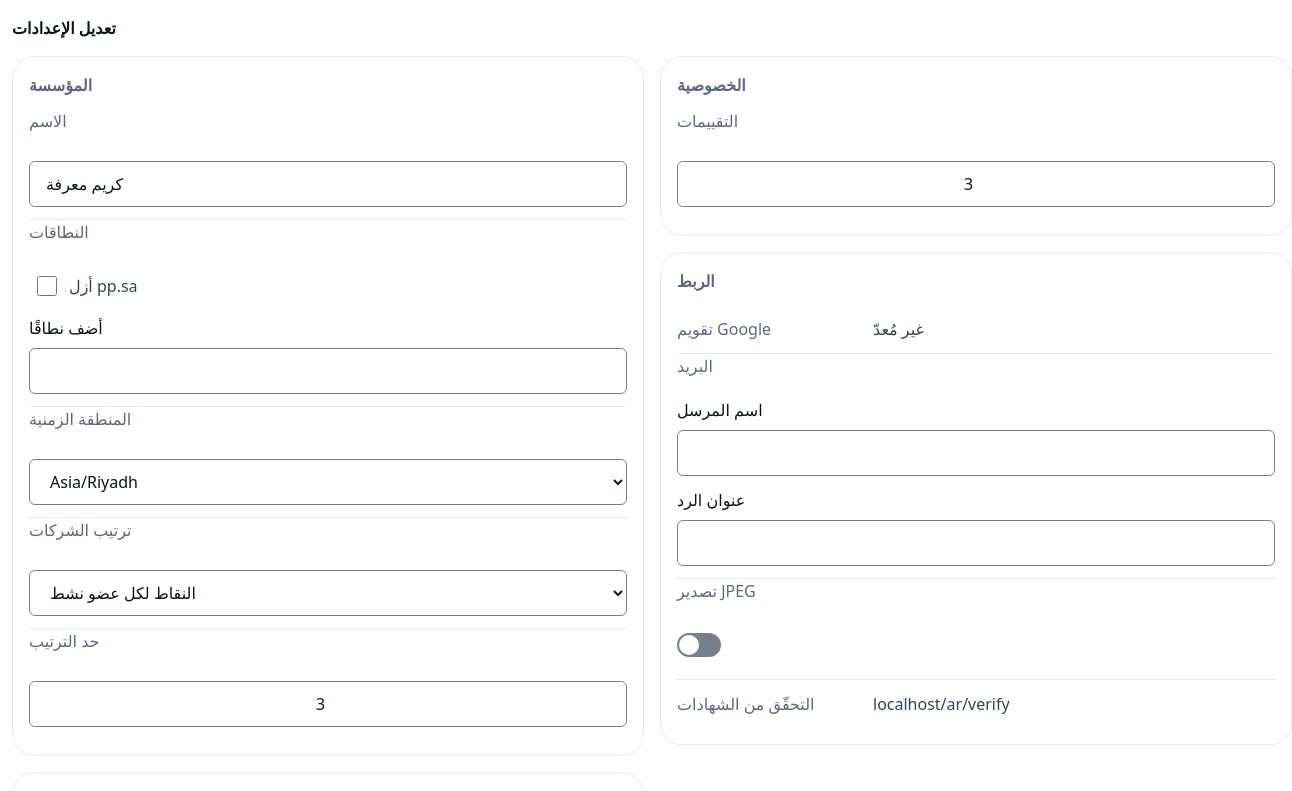
Test: SettingsEdit › four titled cards; a change is counted and named to a screen reader; the deployment's rows stay read
Expected: the heading "المؤسسة" is shown, x1=29 y1=74 x2=92 y2=96
Expected: the heading "الخصوصية" is shown, x1=677 y1=74 x2=746 y2=96
Replace the text in the field named "الاسم" with "اسم جديد" at [328, 184], box x1=29 y1=161 x2=627 y2=207
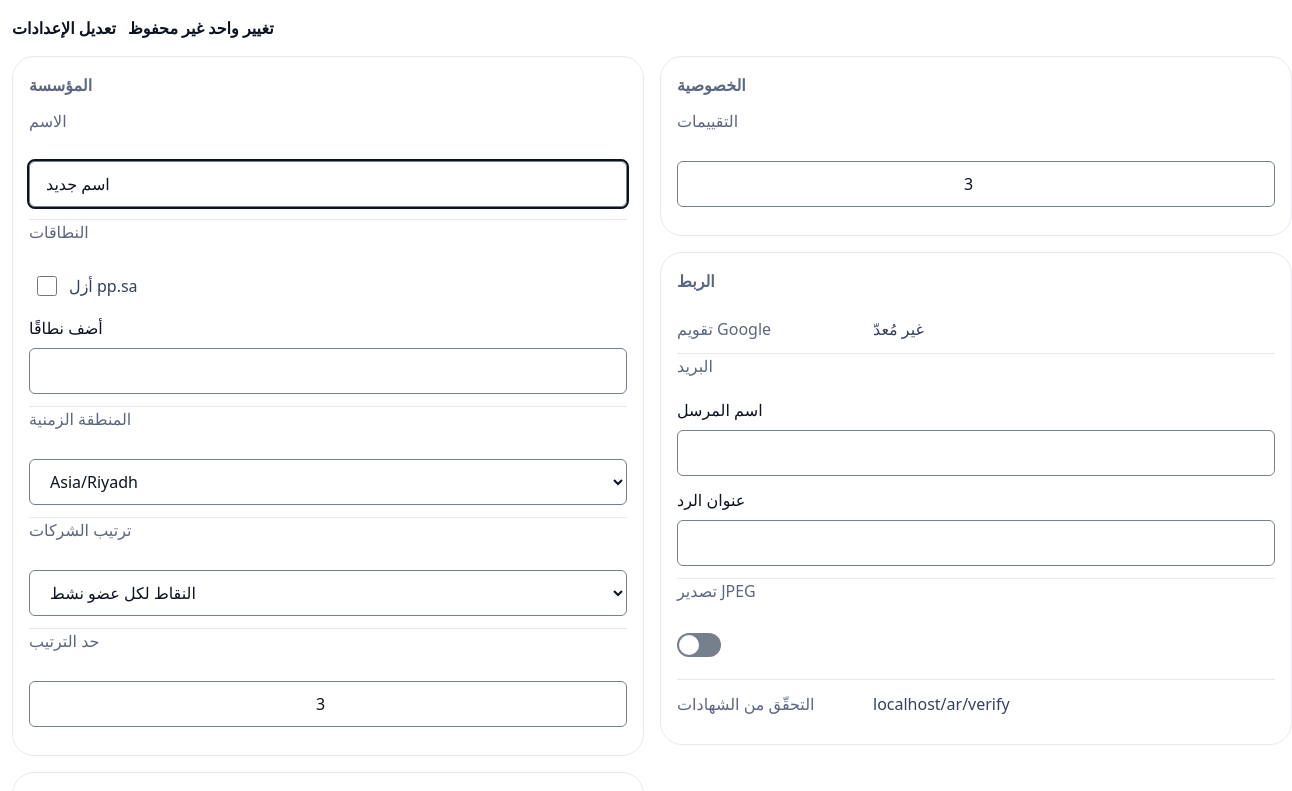
Expected: the text "غير مُعدّ" is shown, x1=873 y1=318 x2=924 y2=340
Result: the text "تغيير واحد غير محفوظ" is shown at x1=128 y1=16 x2=274 y2=40
